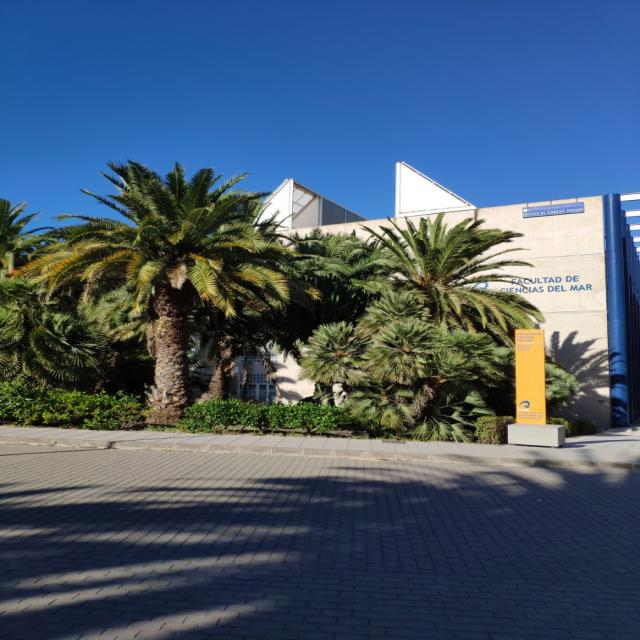Palm-Trees: (64, 170, 272, 420)
